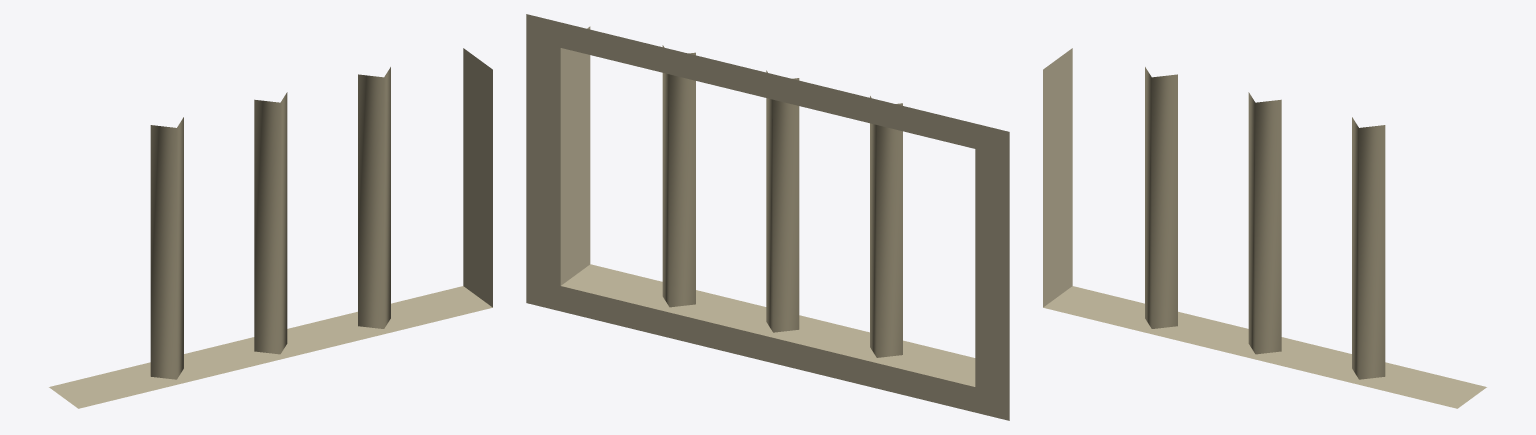
The model's file is kd_stage_135c43_4_66_bounded.glb.
3 renders of one model, left to right at view 1: azimuth 30°, elevation 25°; view 2: azimuth 150°, elevation 25°; view 3: azimuth 330°, elevation 25°, orthographic.
Visible parts, largest first — view 1: kd_stage_135c43_4_66_bounded; view 2: kd_stage_135c43_4_66_bounded; view 3: kd_stage_135c43_4_66_bounded.
Part boxes in pixels (x1,y1,x2,y2): kd_stage_135c43_4_66_bounded: (49, 48, 492, 408); kd_stage_135c43_4_66_bounded: (526, 14, 1009, 420); kd_stage_135c43_4_66_bounded: (1043, 48, 1486, 408).
Bounding box in the file's own units: 0.35 × 0.2 × 0.0373.
1 material, 1 textured.
